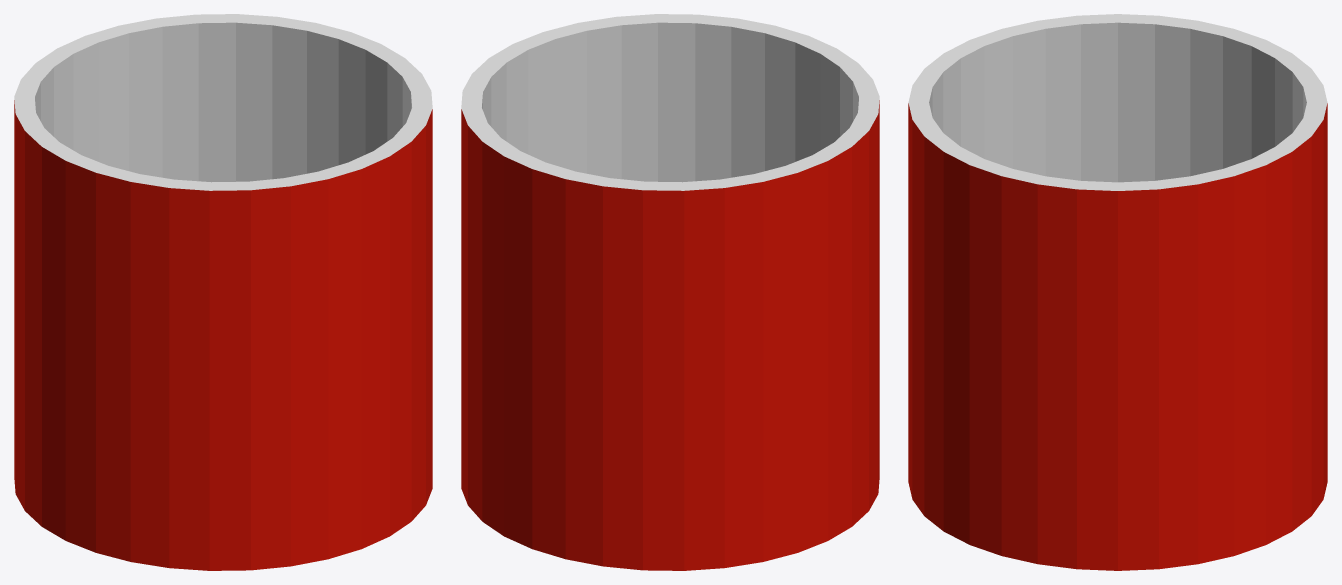
The model's file is ugly-cup-3.glb.
The picture shows the model from 3 angles, left to right: view 1: azimuth 30°, elevation 25°; view 2: azimuth 150°, elevation 25°; view 3: azimuth 270°, elevation 25°; orthographic projection.
Parts seen in each view (by area): view 1: Cylinder; view 2: Cylinder; view 3: Cylinder.
Boxes of the visible parts, left/top/right/bottom form: Cylinder: left=14, top=14, right=432, bottom=570; Cylinder: left=461, top=14, right=879, bottom=570; Cylinder: left=908, top=14, right=1327, bottom=570.
Size of the model in its own units: 2 by 2 by 2.
